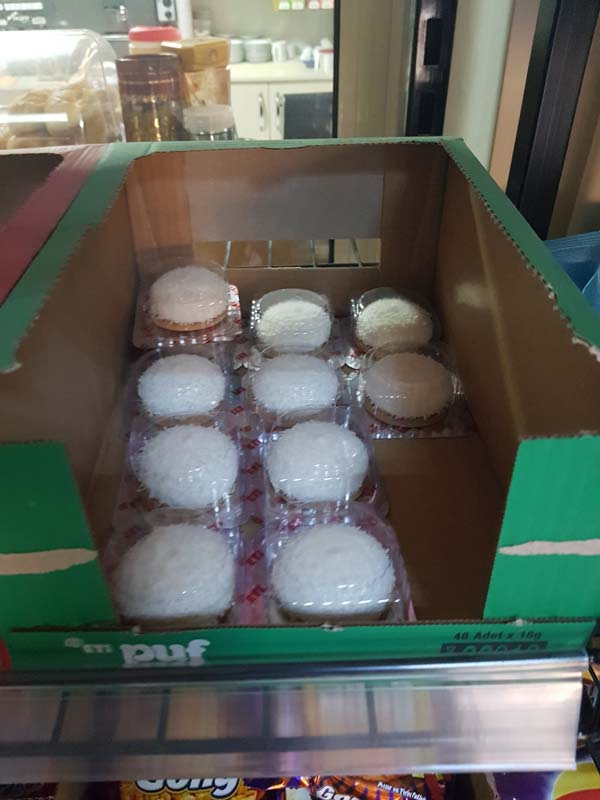etipuf: (253, 515, 410, 619), (105, 522, 242, 625), (112, 422, 246, 514), (349, 355, 477, 441), (255, 422, 377, 508), (245, 280, 340, 350), (141, 271, 238, 337), (344, 279, 436, 347), (135, 353, 230, 416), (244, 362, 345, 420)
